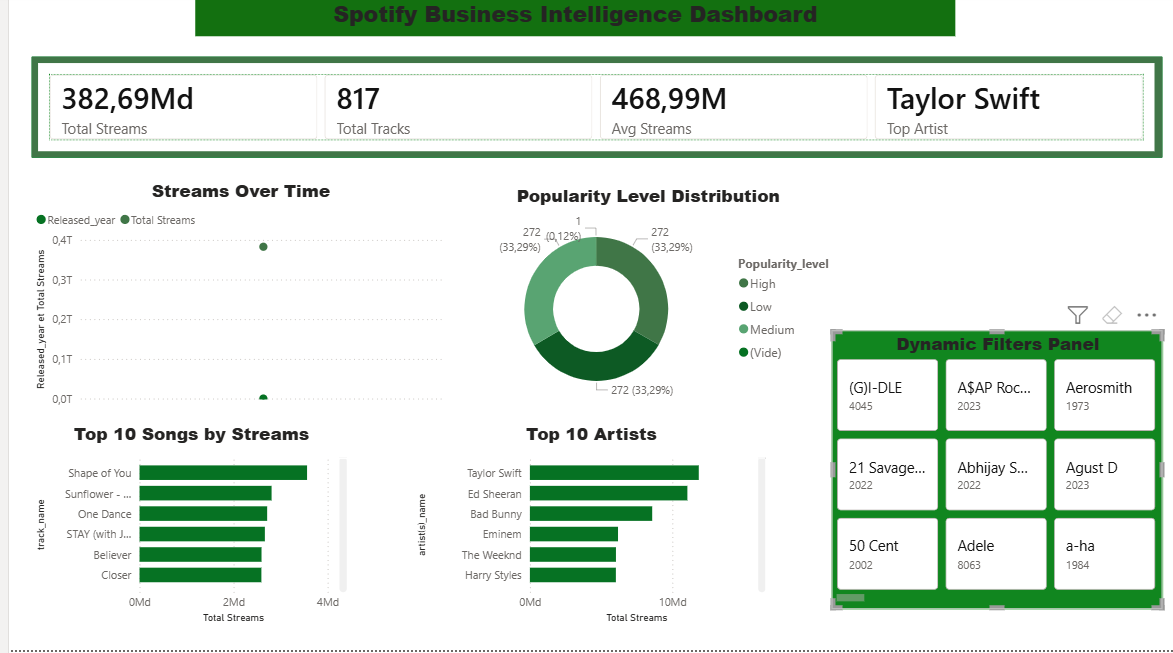

This screenshot's page, from the dashboard's own definition file:
{"tool":"powerbi","page":{"name":"Page 1","canvas":[1280,720],"ordinal":0},"visuals":[{"type":"cardVisual","fields":{"Data":["spotify spotistream.Total Streams","spotify spotistream.Total Tracks","spotify spotistream.Avg Streams","spotify spotistream.Top Artist"]},"box":[24.7,68.6,1241.9,111.1],"z":0},{"type":"textbox","box":[204.5,0,834.3,46.7],"z":1000},{"type":"lineChart","title":"Streams Over Time","fields":{"Y":["Sum(spotify spotistream.released_year)","spotify spotistream.Total Streams"]},"box":[24.7,201.7,459.7,256.6],"z":2001},{"type":"donutChart","title":"Popularity Level Distribution","fields":{"Category":["spotify spotistream.popularity_level"],"Y":["spotify spotistream.Total Tracks"]},"box":[484.4,207.2,435,251.1],"z":2002},{"type":"clusteredBarChart","title":"Top 10 Songs by Streams","fields":{"Category":["spotify spotistream.track_name"],"Y":["spotify spotistream.Total Streams"]},"box":[24.7,469.3,351.3,226.4],"z":2003},{"type":"clusteredBarChart","title":"Top 10 Artists","fields":{"Category":["spotify spotistream.artist(s)_name"],"Y":["spotify spotistream.Total Streams"]},"box":[443.2,469.3,392.5,226.4],"z":2004},{"type":"advancedSlicerVisual","title":"Dynamic Filters Panel","fields":{"Label":["Sum(spotify spotistream.released_year)"],"Values":["spotify spotistream.artist(s)_name"]},"box":[902.9,369.1,363.6,306],"z":2005}]}

Visuals, with their boxes in screenshot pixels (x1, y1, x2, y2), scaled from the page's 1280x720 canvas onto the 1173x653 screenshot:
cardVisual - spotify spotistream.Total Streams x spotify spotistream.Total Tracks: [x1=23, y1=62, x2=1161, y2=163]
textbox: [x1=187, y1=0, x2=952, y2=42]
"Streams Over Time" lineChart: [x1=23, y1=183, x2=444, y2=416]
"Popularity Level Distribution" donutChart: [x1=444, y1=188, x2=843, y2=416]
"Top 10 Songs by Streams" clusteredBarChart: [x1=23, y1=426, x2=345, y2=631]
"Top 10 Artists" clusteredBarChart: [x1=406, y1=426, x2=766, y2=631]
"Dynamic Filters Panel" advancedSlicerVisual: [x1=827, y1=335, x2=1161, y2=612]
